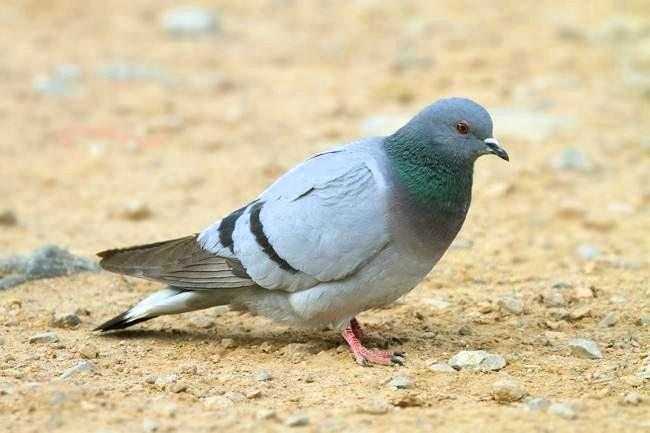Flying Rat: (83, 98, 509, 361)
